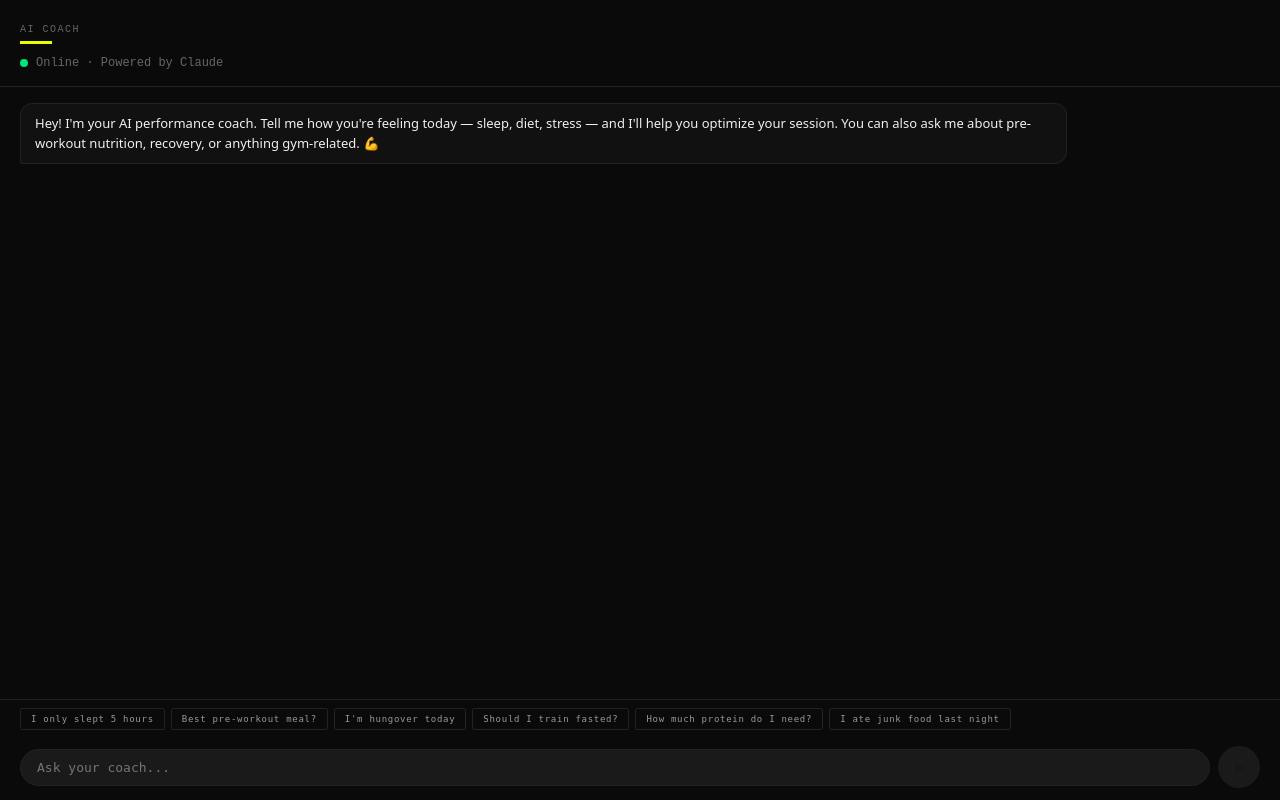
Test: AIChat component › US-04: AI response appears in chat after loading
In the field with test id "chat-input": (615, 767) [20,748,1210,786], type "What should I eat?"
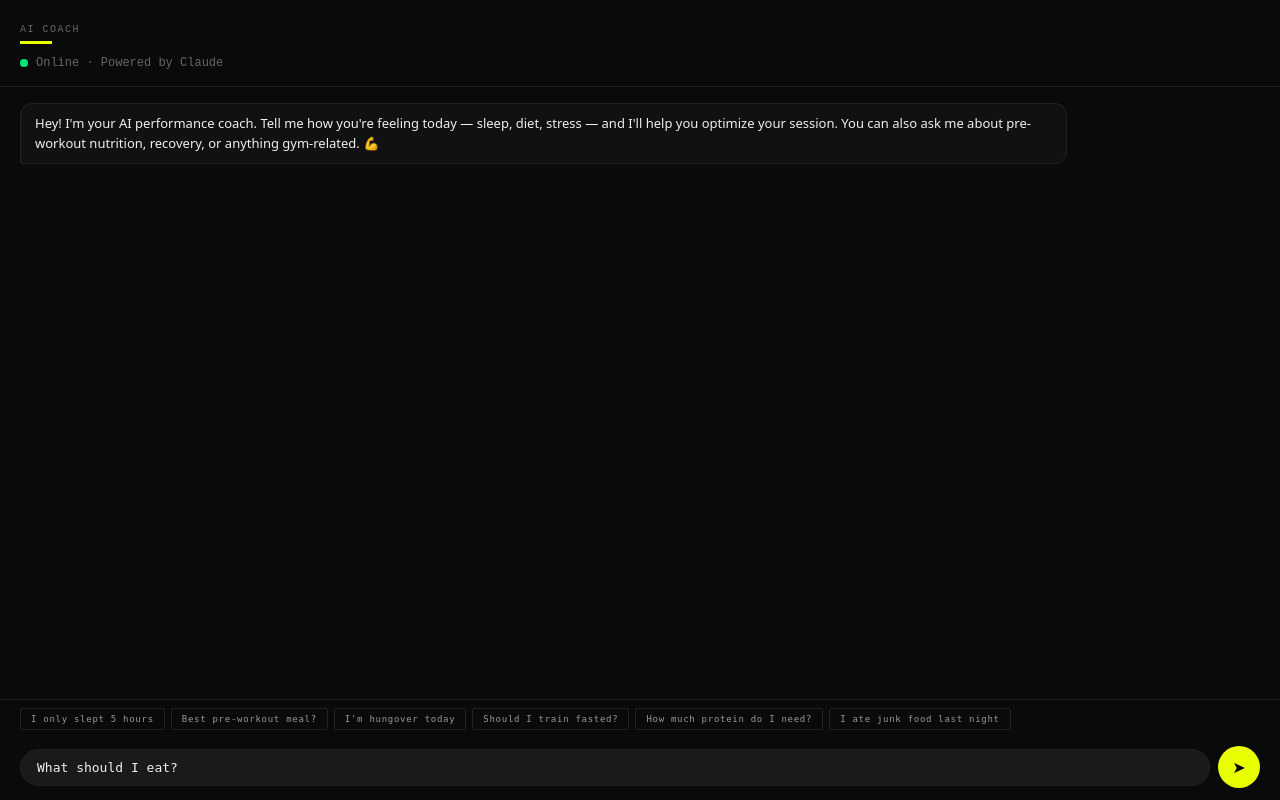
Click the button with test id "send-button": (1239, 767) [1218,746,1260,788]
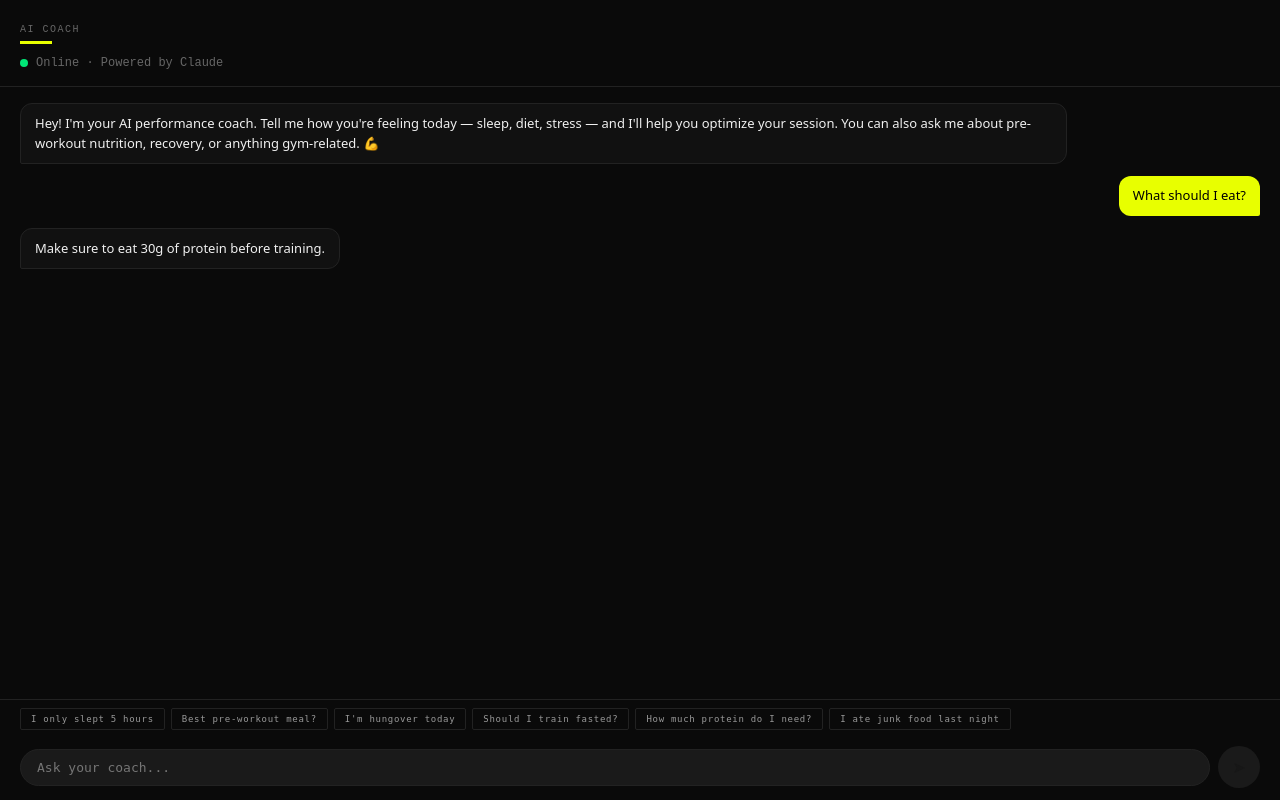
Check: the text "Make sure to eat 30g of protein before training." is shown, box [20,228,340,269]
